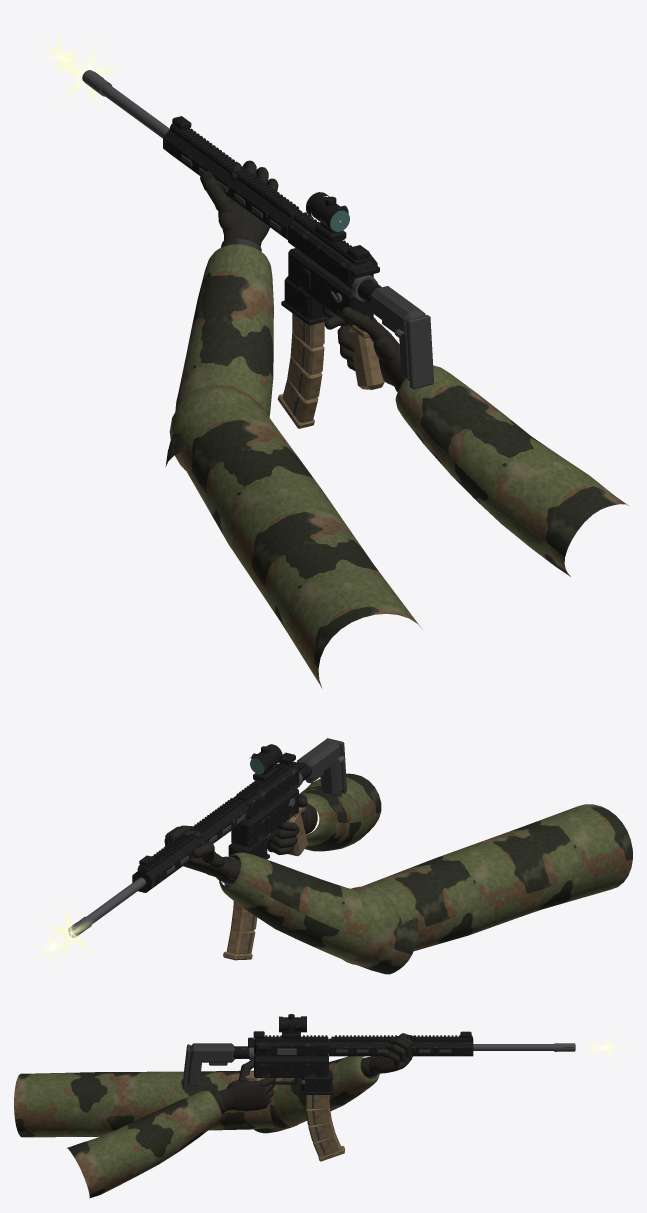
3 views of the same model, one above another, from view 1: azimuth 30°, elevation 25°; view 2: azimuth 150°, elevation 25°; view 3: azimuth 270°, elevation 25° (orthographic). The views are drawn at different scales.
Parts seen in each view (by area): view 1: gun, flash; view 2: gun, flash; view 3: gun, flash.
Boxes of the visible parts, box(x1,y1,x2,y2) form: gun: box(82, 70, 628, 688); flash: box(41, 36, 116, 102); gun: box(68, 738, 632, 974); flash: box(35, 908, 90, 963); gun: box(14, 1014, 575, 1198); flash: box(588, 1037, 626, 1057).
Bounding box in the file's own units: 0.6557 × 0.5107 × 1.65.
Materials: 13 (5 with a texture image).
